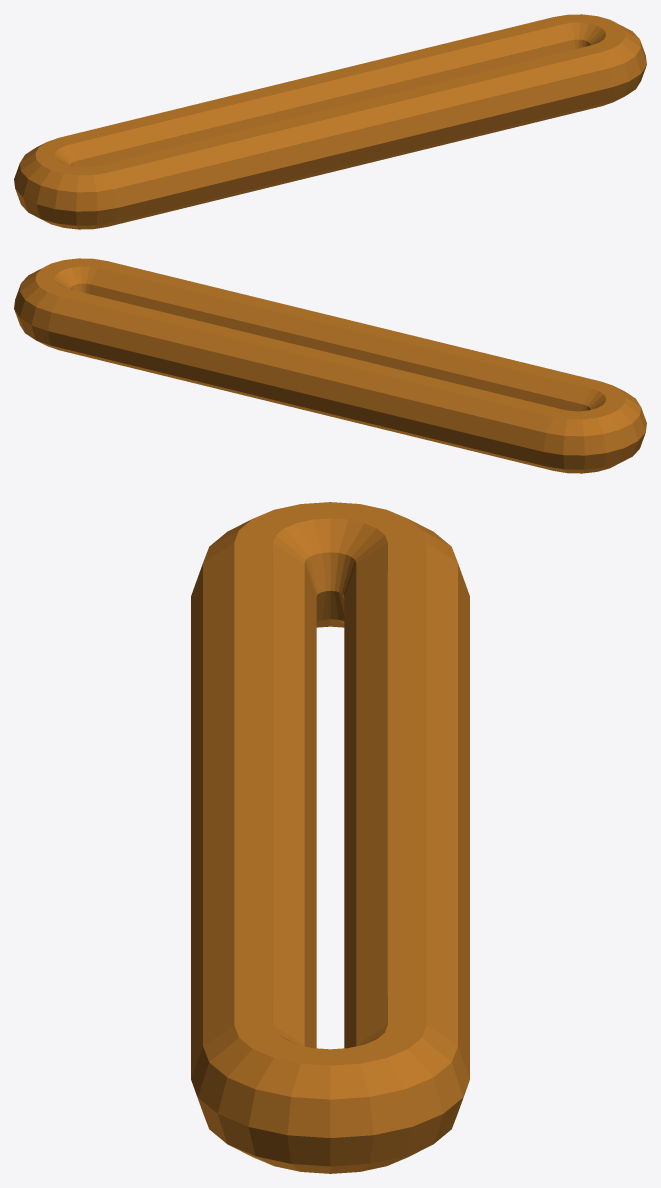
File: recorder_handle.obj
3 renders of one model, top to bottom at view 1: azimuth 30°, elevation 25°; view 2: azimuth 150°, elevation 25°; view 3: azimuth 270°, elevation 25°, orthographic. The views are drawn at different scales.
Visible parts, largest first — view 1: recorder_handle; view 2: recorder_handle; view 3: recorder_handle.
Boxes of the visible parts, x1=… form: recorder_handle: x1=14, y1=14, x2=646, y2=229; recorder_handle: x1=14, y1=258, x2=646, y2=473; recorder_handle: x1=191, y1=502, x2=469, y2=1173.
Size of the model in its own units: 0.112 by 0.00942 by 0.022.
